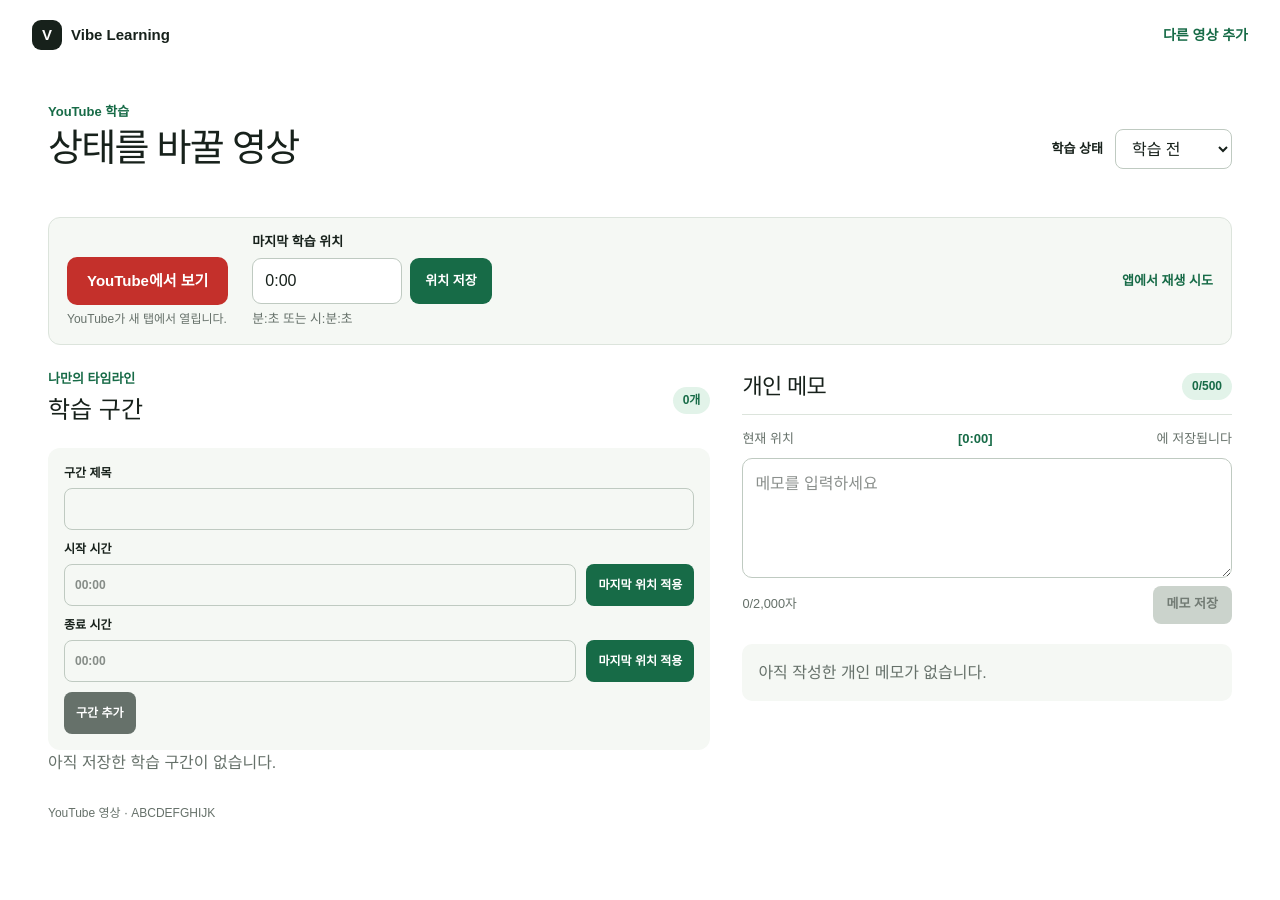
Scenario: LearningVideoDetail › saves an external position and uses it for a new note
The width and height of the screenshot is (1280, 900).
Expected: the dropdown labelled "학습 상태" is shown, [1115, 129, 1232, 169]
Replace the text in the field labelled "마지막 학습 위치" with "12:43". click: (327, 281)
box: [252, 258, 402, 304]
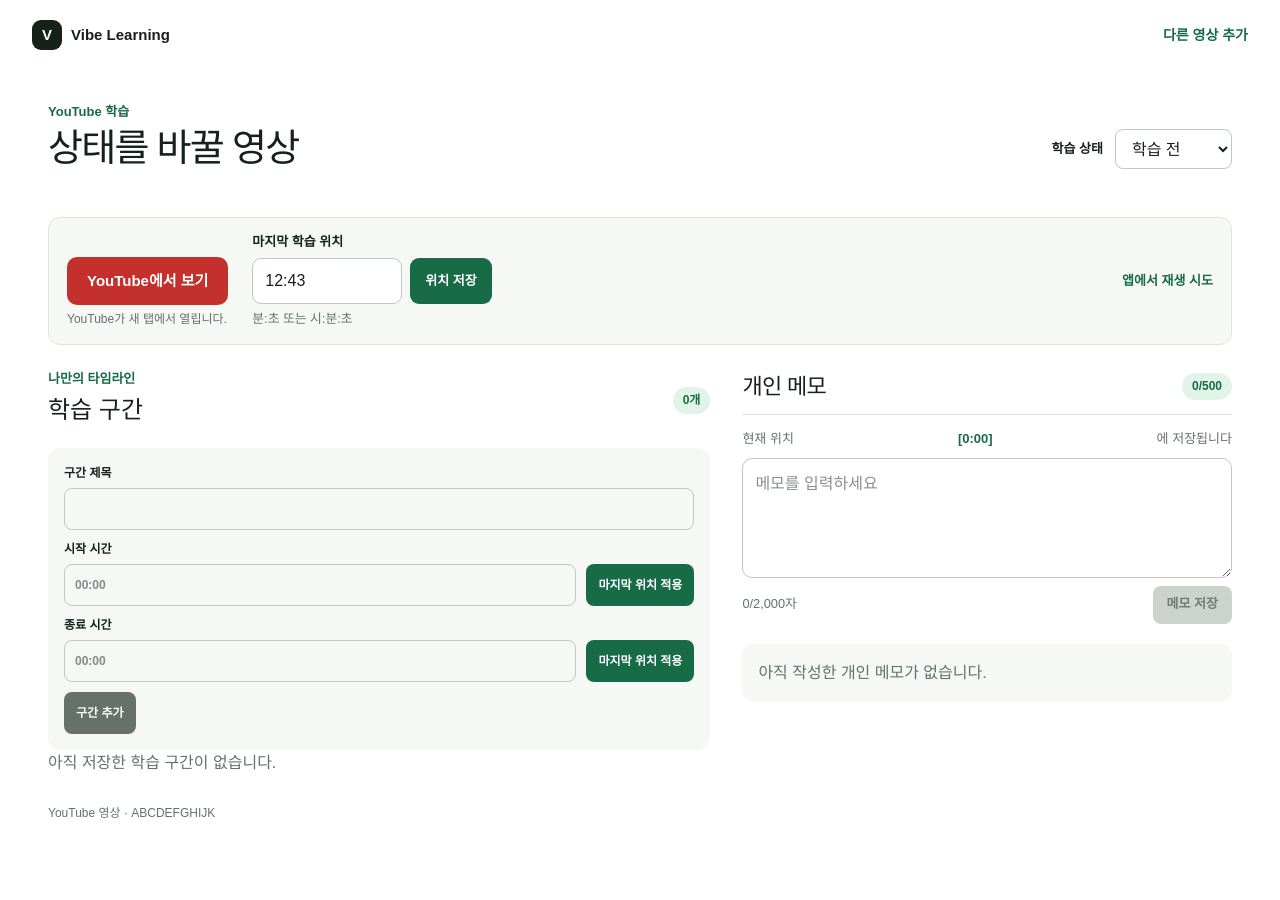
Click the button "위치 저장". click: click(451, 281)
box: [410, 258, 492, 304]
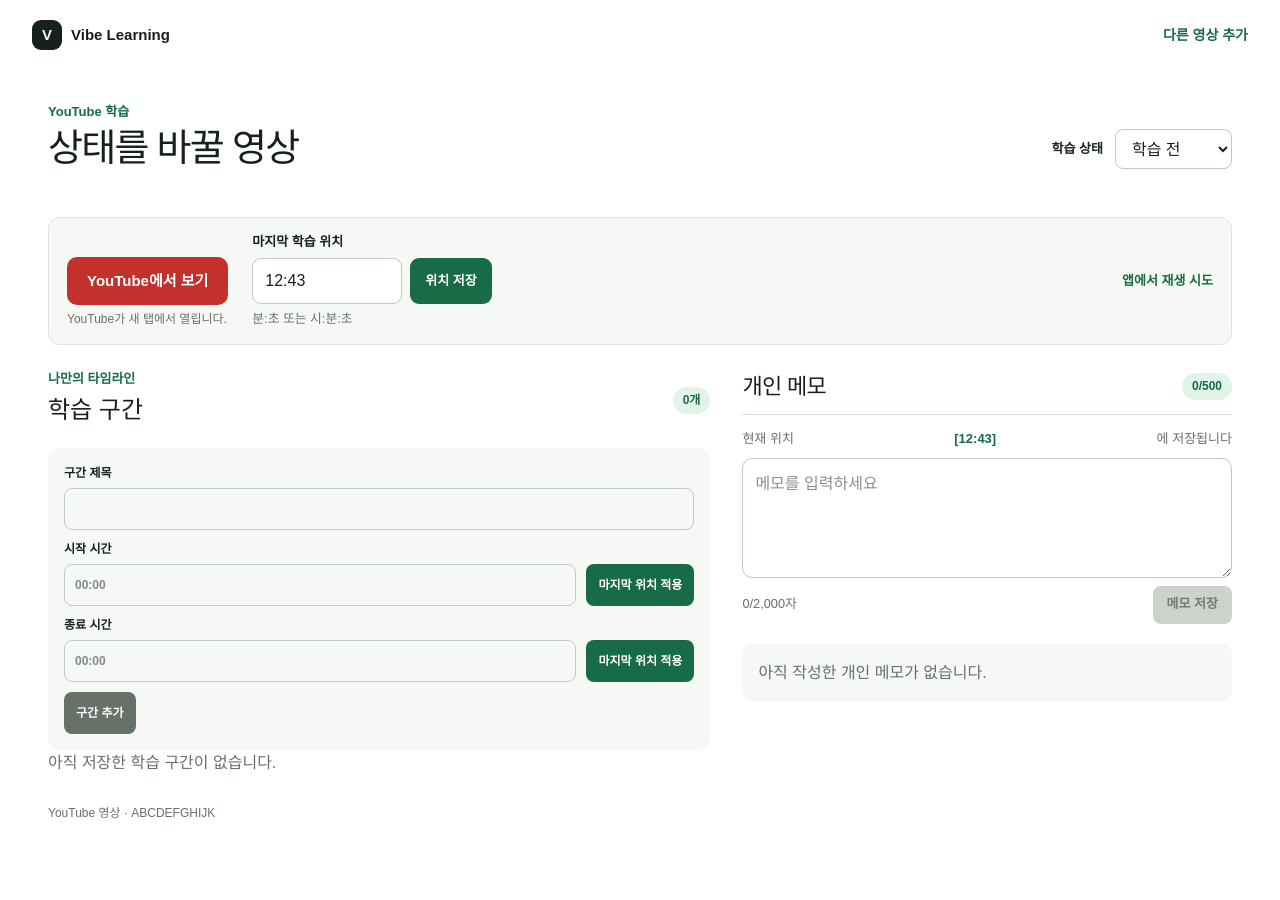
Type "외부 재생 메모" into the text box named "메모 내용". click: (987, 518)
box: [742, 458, 1232, 578]
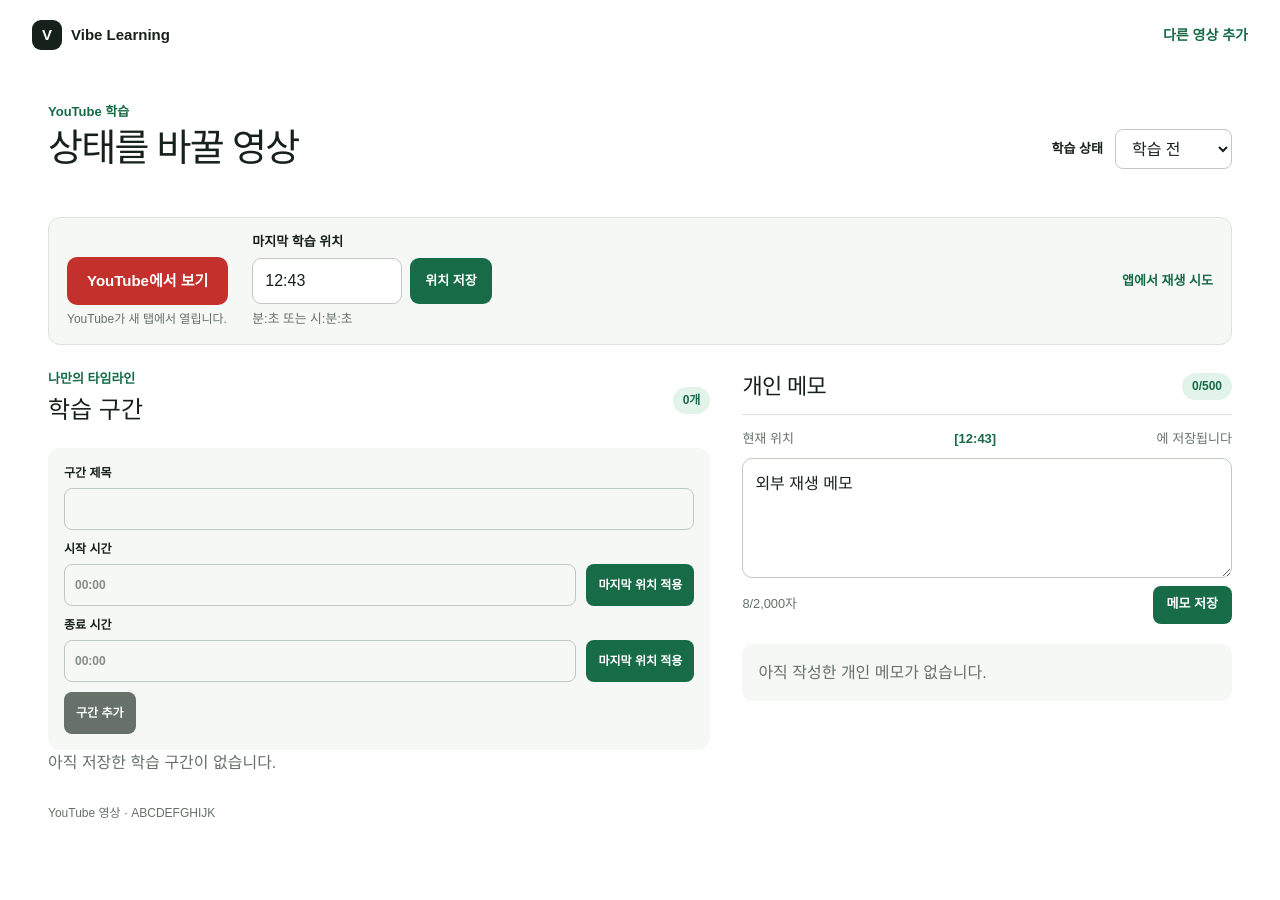
Click the button "메모 저장". click: click(1192, 605)
box: [1152, 586, 1232, 624]
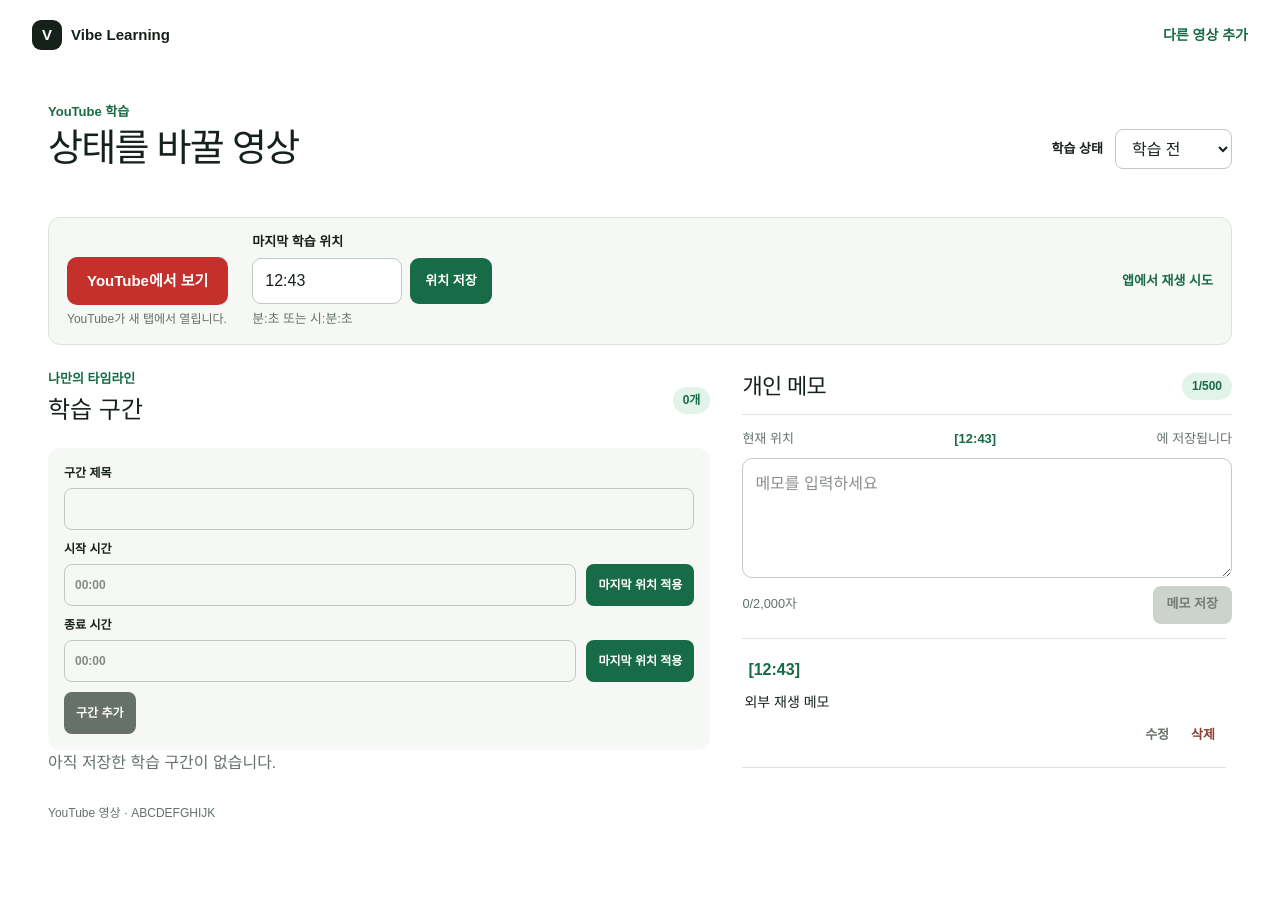
Expected: the button named "[12:43] 위치로 이동" is shown, [744, 653, 804, 687]
